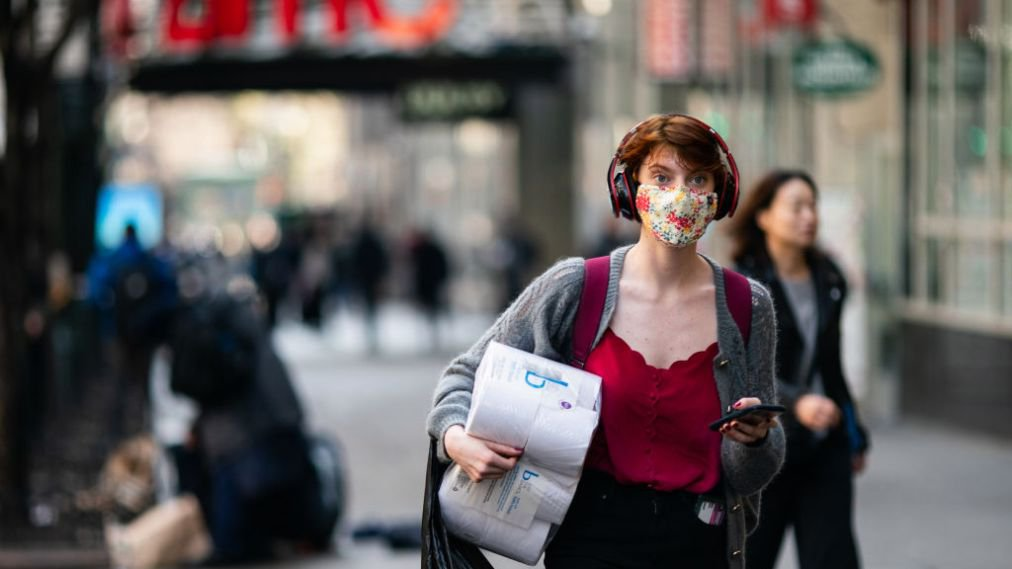mask: (581, 106, 745, 256)
